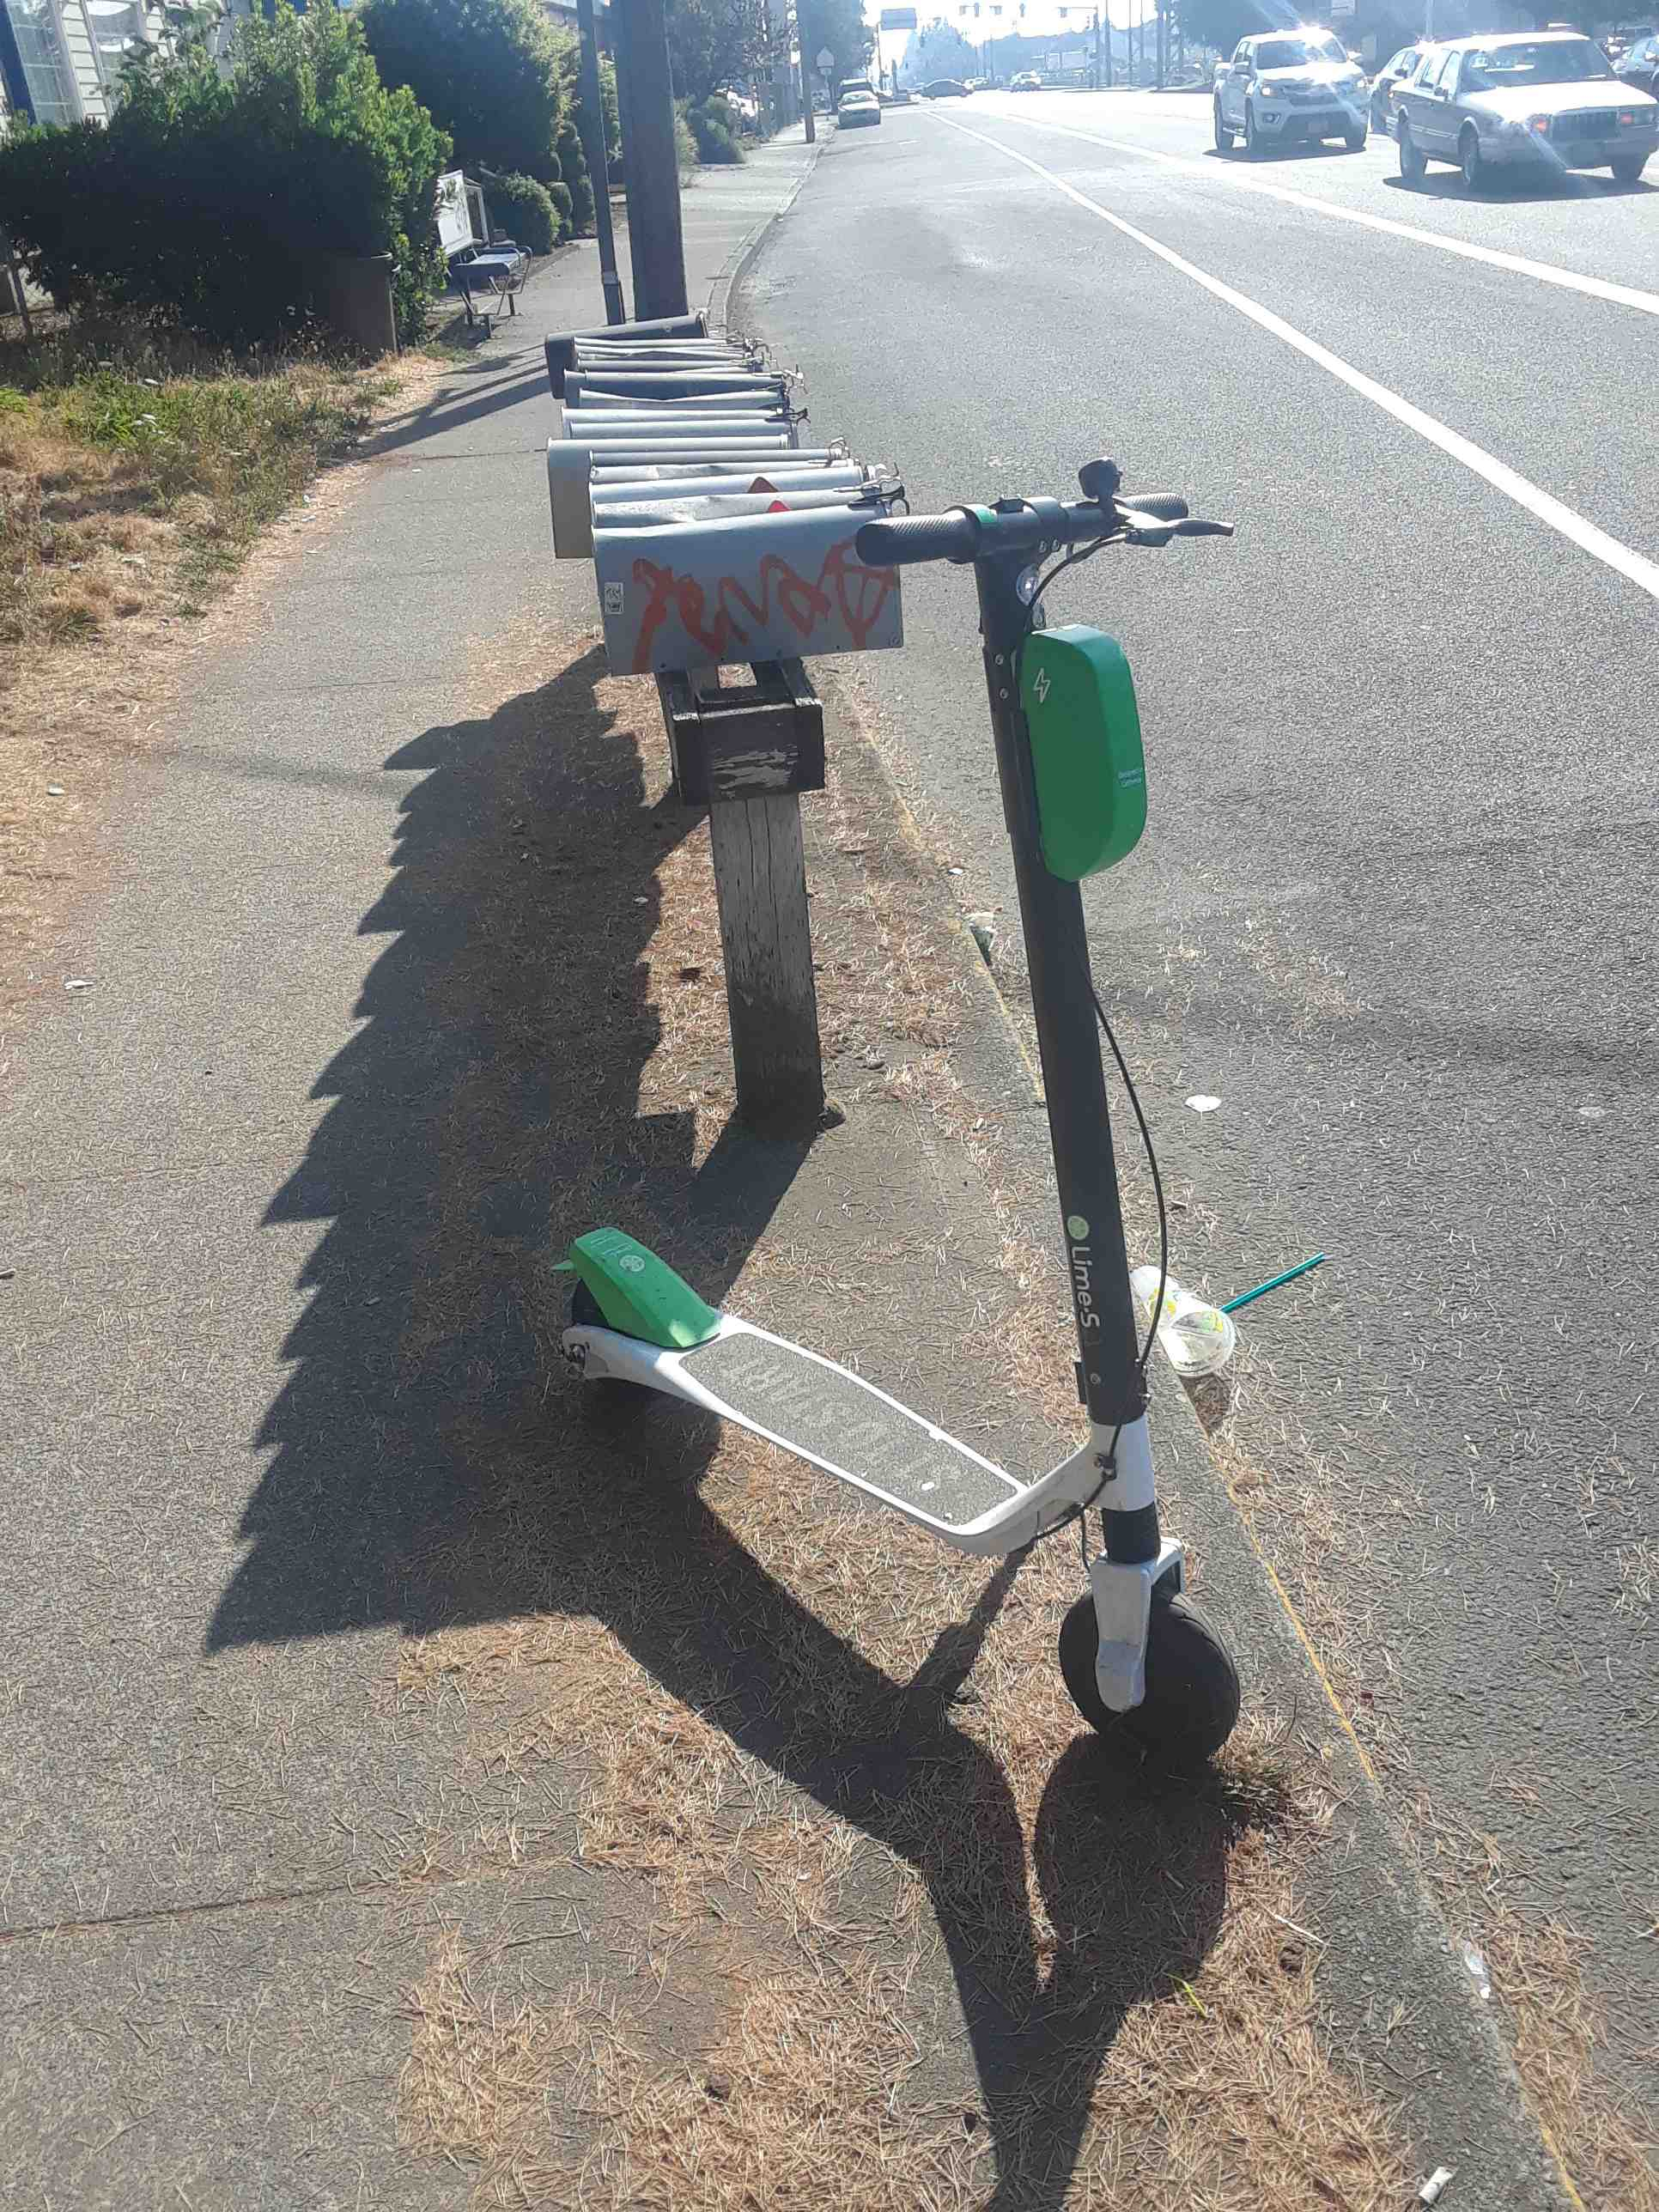scooter: (474, 451, 1290, 2006)
